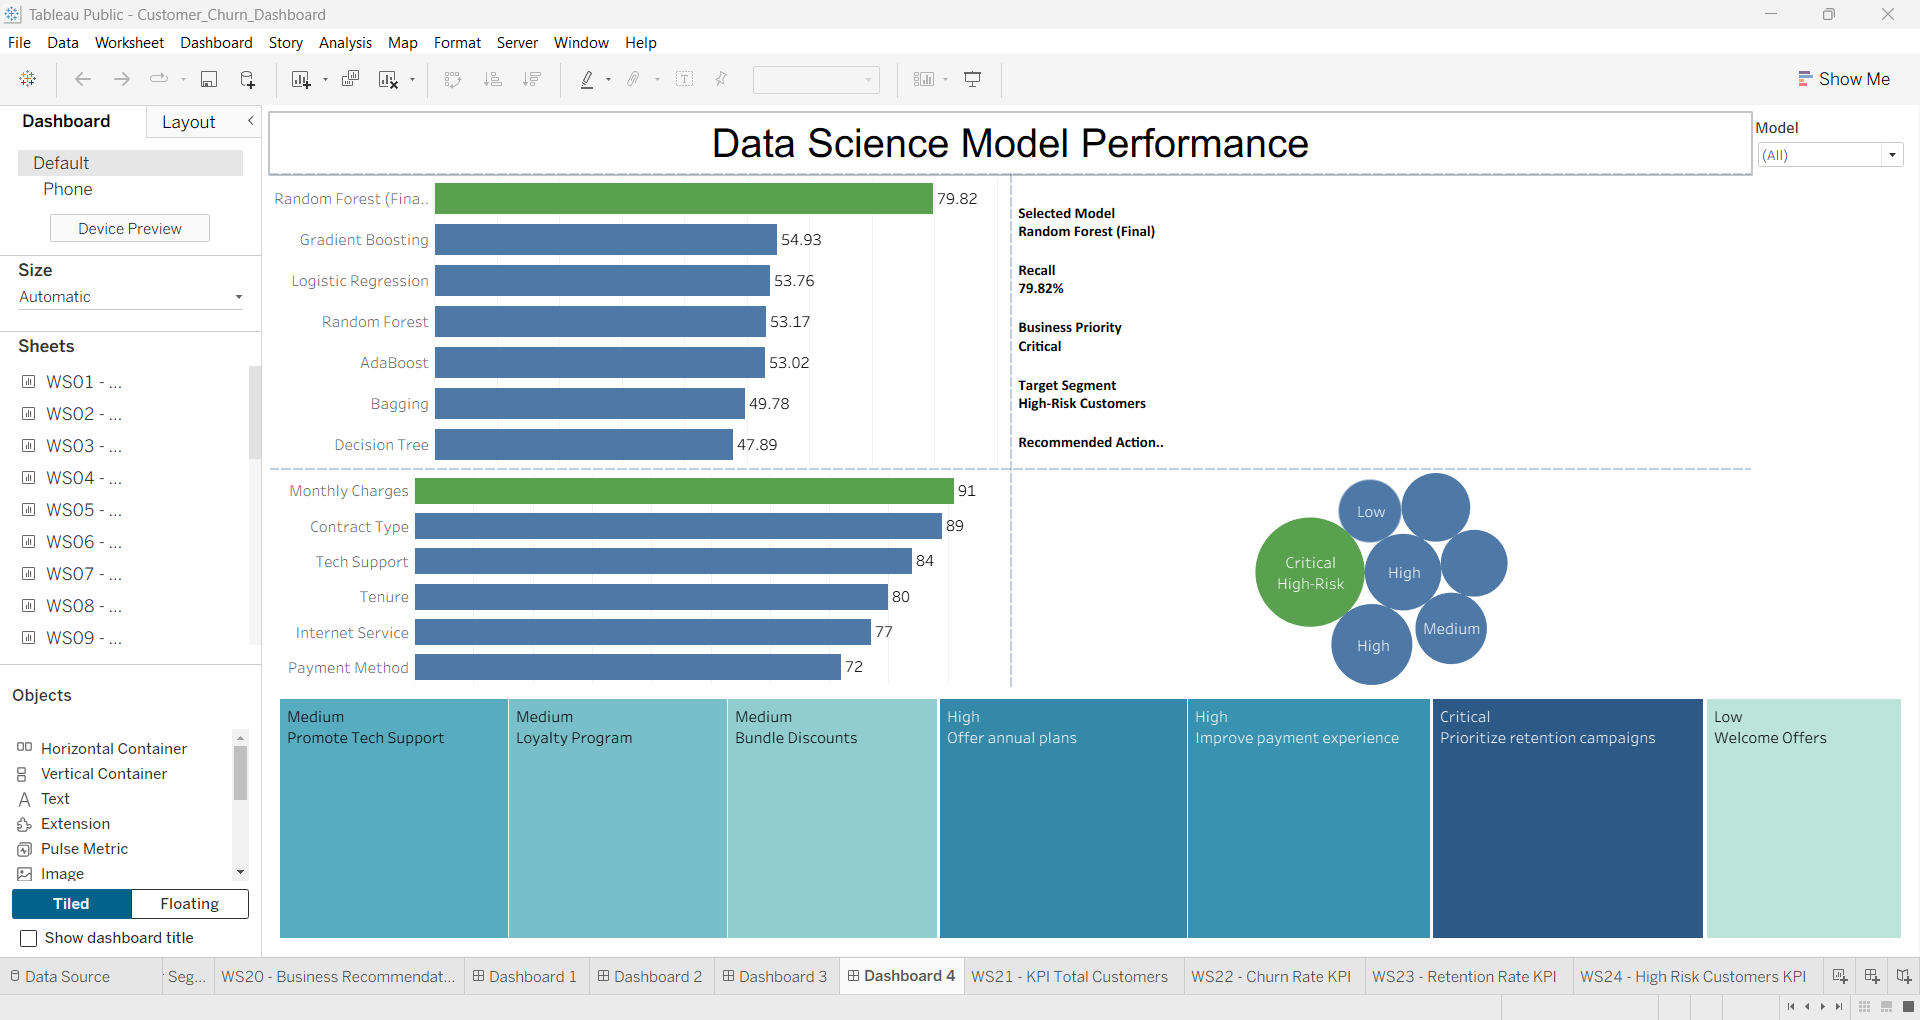

Layout of this report page (visuals, bound fields, positions):
{"tool":"tableau","page":{"name":"Dashboard 4","canvas":[1000,1000],"units":"permille","ordinal":3},"visuals":[{"type":"text","box":[4.8,9.4,893.8,71.7]},{"type":"filter","title":"WS16 - Model Comparison Based on Recall","param":"[federated.0l9th8509mvtww18hzbjv1mzhikt].[none:Model:nk]","box":[898.6,9.4,96.6,71.7]},{"type":"worksheet","title":"WS16 - Model Comparison Based on Recall","mark":"Automatic","rows":["Model"],"cols":["Recall"],"box":[4.8,81.1,446.9,346.7]},{"type":"text","box":[451.7,81.1,446.9,346.7]},{"type":"worksheet","title":"WS18 - Top Churn Drivers","mark":"Automatic","rows":["Churn Driver"],"cols":["Driver Score"],"box":[4.8,427.7,446.9,258.5]},{"type":"worksheet","title":"WS19  -High-Risk Customer Segments by Churn Rate","mark":"Circle","box":[451.7,427.7,446.9,258.5]},{"type":"worksheet","title":"WS20 - Business Recommendations by Priority","mark":"Automatic","box":[4.8,686.2,990.3,304.4]}]}

Visuals, with their boxes on the dashboard's canvas, which has no fixed pixel size, in thousandths of its width and height (x1, y1, x2, y2). These are canvas units, not pixel positions in the 1920x1020 screenshot, which may show the page scaled, cropped or inside an application window:
text: (5, 9, 899, 81)
"WS16 - Model Comparison Based on Recall" filter: (899, 9, 995, 81)
"WS16 - Model Comparison Based on Recall" worksheet: (5, 81, 452, 428)
text: (452, 81, 899, 428)
"WS18 - Top Churn Drivers" worksheet: (5, 428, 452, 686)
"WS19  -High-Risk Customer Segments by Churn Rate" worksheet (Circle marks): (452, 428, 899, 686)
"WS20 - Business Recommendations by Priority" worksheet: (5, 686, 995, 991)
